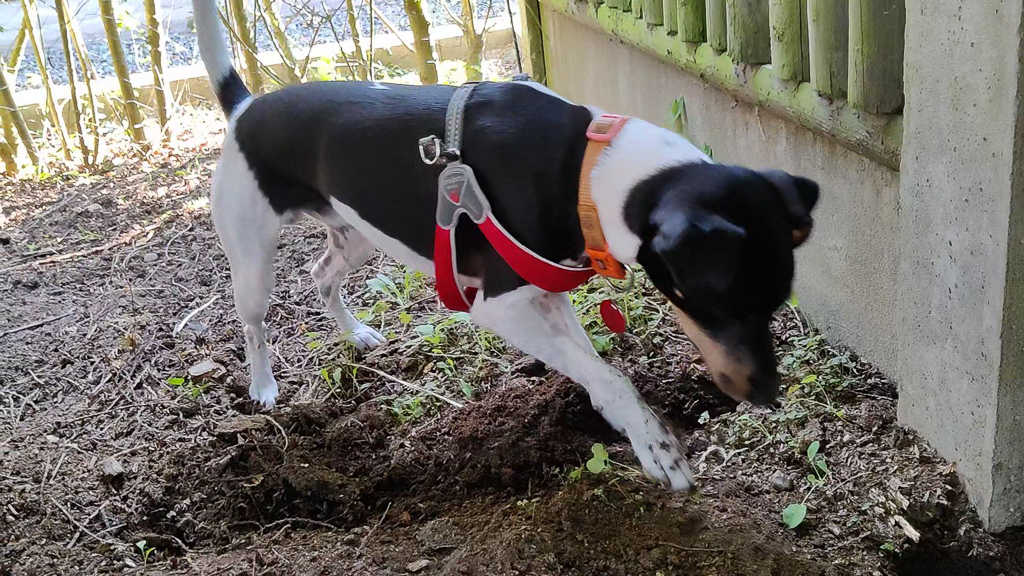Dog: (185, 0, 834, 505)
